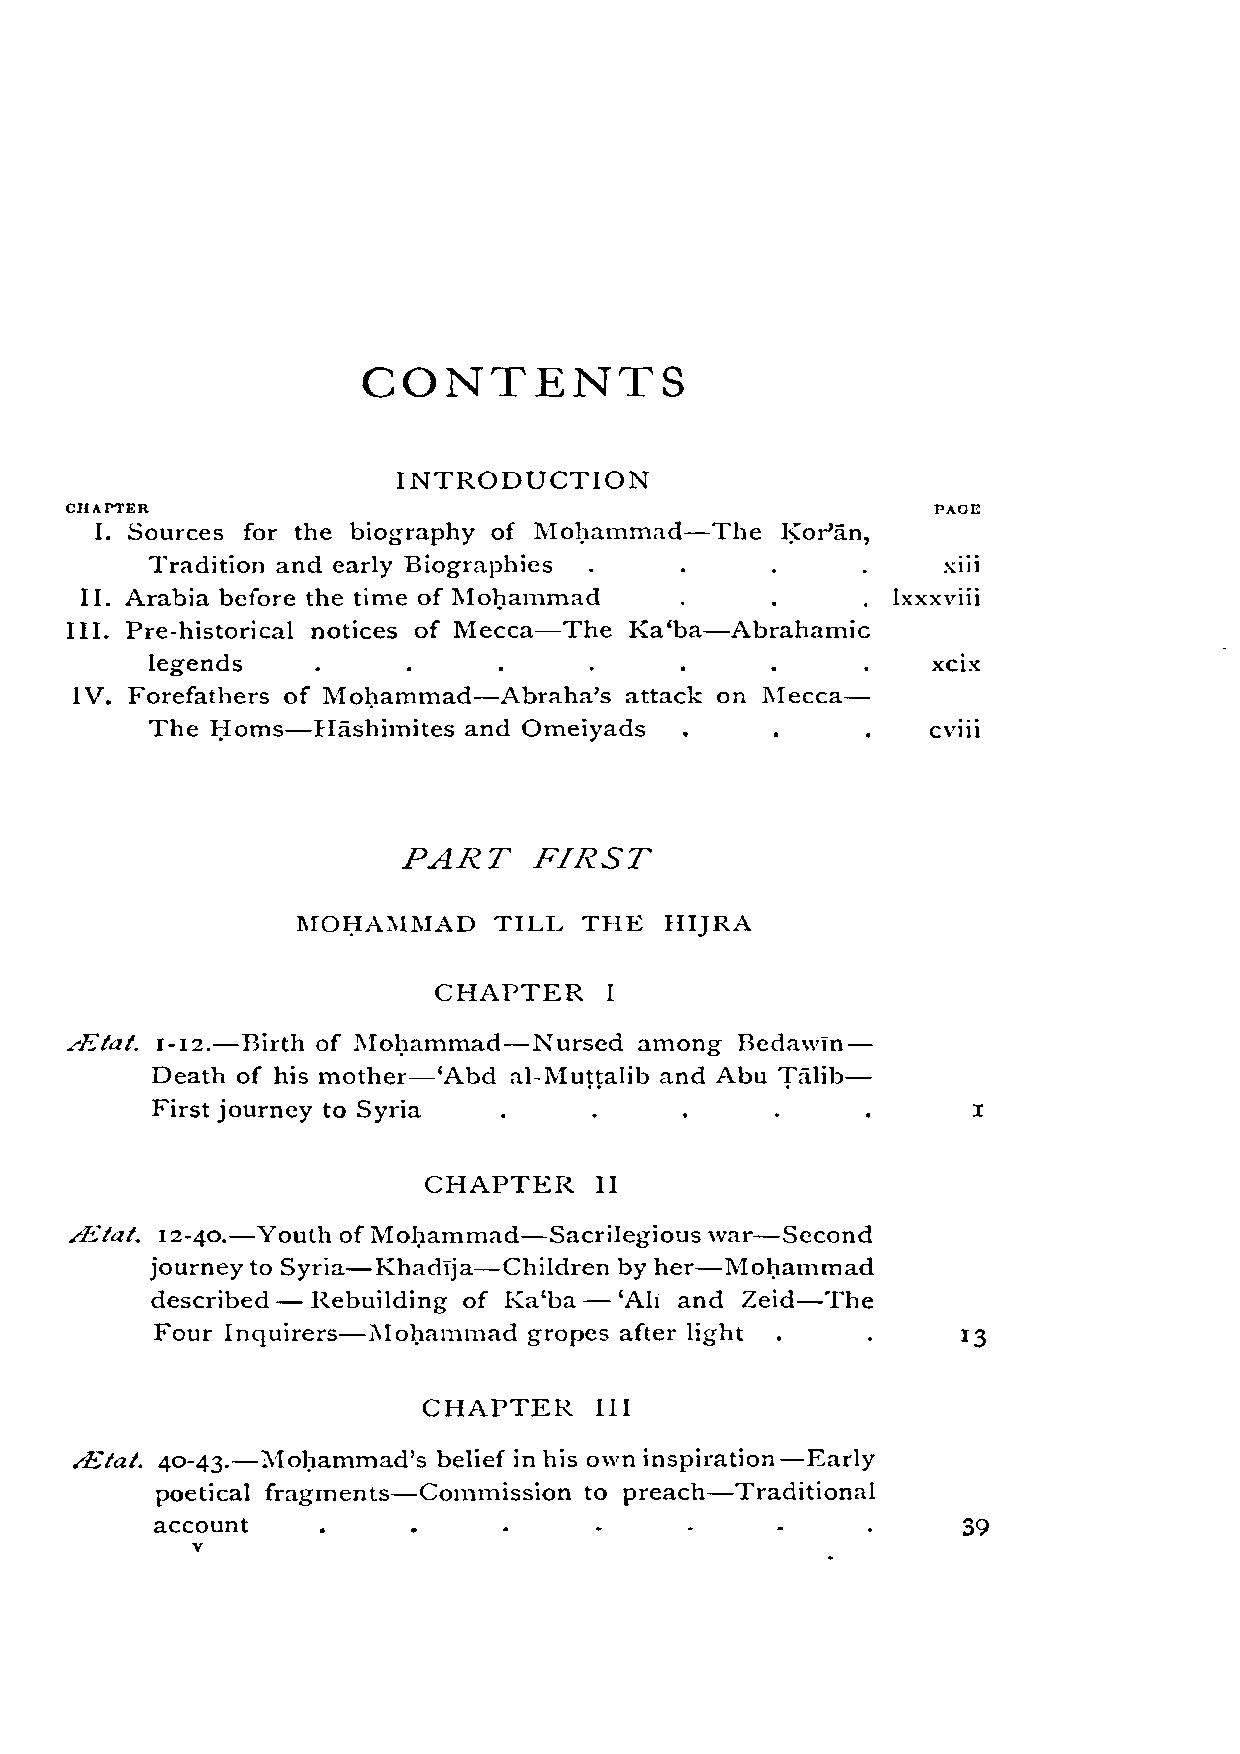TOC_chapter: (68, 1219, 879, 1350), (64, 1024, 878, 1127), (68, 1445, 886, 1538), (70, 680, 874, 743), (56, 617, 872, 676), (91, 521, 870, 578), (293, 910, 758, 942), (75, 586, 607, 609), (386, 462, 656, 497), (397, 841, 654, 874), (427, 974, 627, 1007), (421, 1169, 625, 1198)
TOC_pagenumber: (886, 584, 992, 608), (927, 715, 984, 739), (925, 651, 982, 672), (939, 552, 982, 574), (958, 1512, 993, 1539), (961, 1094, 988, 1122), (958, 1323, 988, 1347)
chapter: (357, 362, 688, 401)
